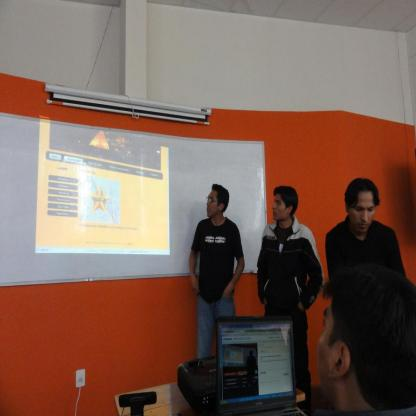board: (204, 317, 304, 416)
